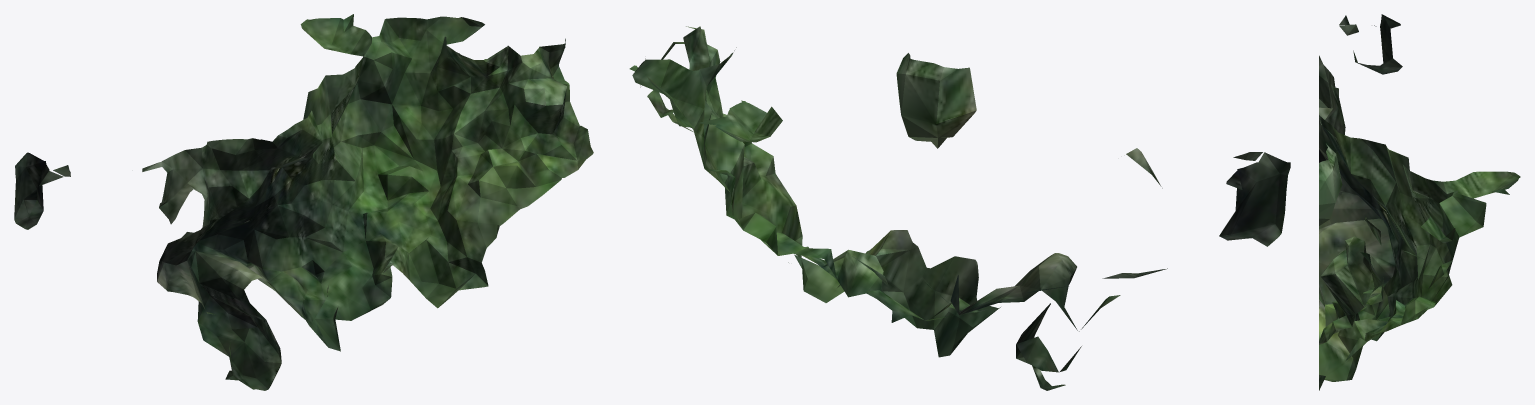
The picture shows the model from 3 angles, left to right: view 1: azimuth 30°, elevation 25°; view 2: azimuth 150°, elevation 25°; view 3: azimuth 270°, elevation 25°; orthographic projection. The views are drawn at different scales.
Size of the model in its own units: 26.11 by 11.63 by 9.27.
1 material, 1 textured.
